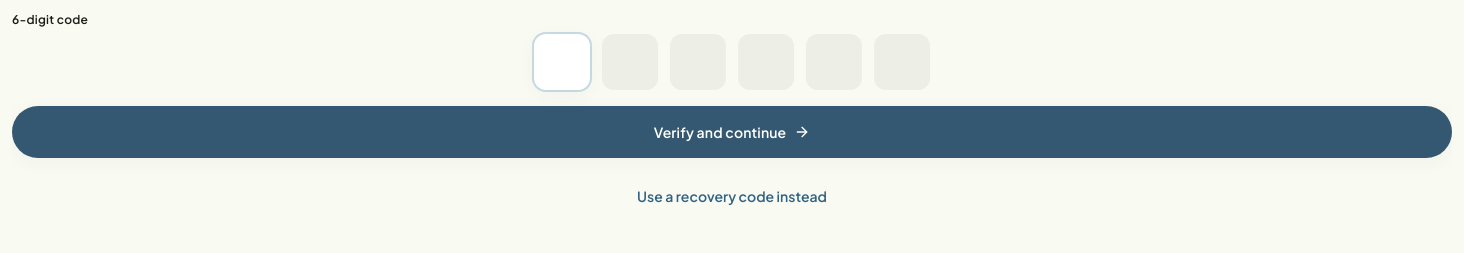
Scenario: TwoFactorForm › swaps in a single field for a recovery code
The image size is (1464, 253).
Click the button "Use a recovery code instead".
click(732, 196)  # box left=621, top=174, right=843, bottom=218
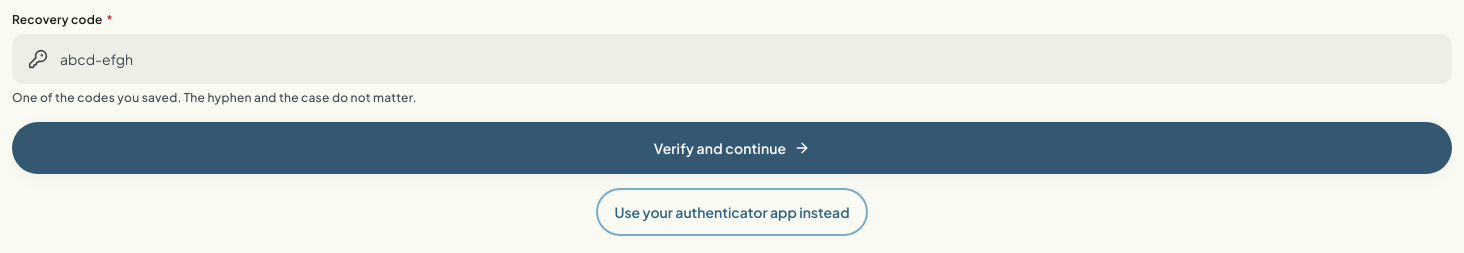
Result: the field labelled "Recovery code" is shown at left=12, top=34, right=1452, bottom=84
